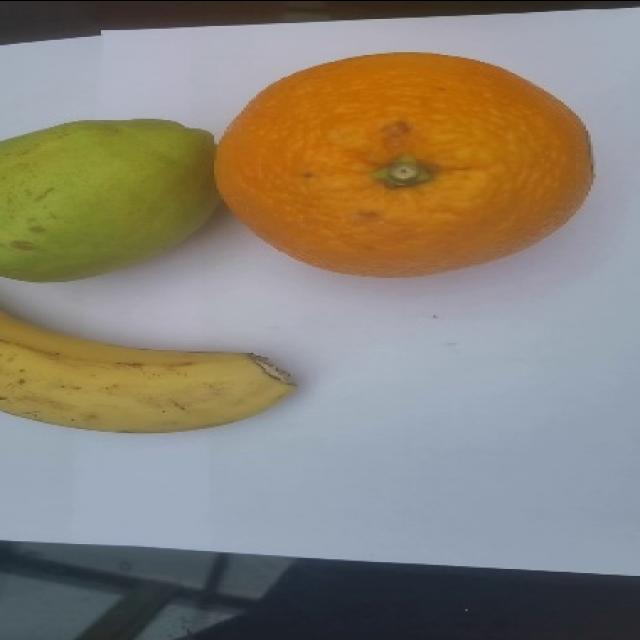Banana: (0, 305, 302, 437)
Orange: (211, 52, 597, 278)
